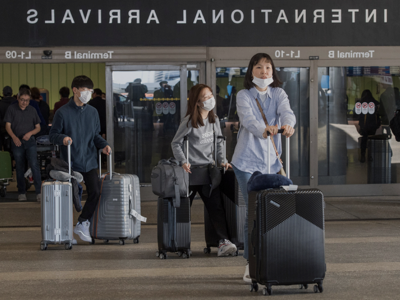mask_weared_incorrect: (253, 62, 274, 91)
with_mask: (199, 91, 216, 115), (77, 86, 93, 105)
without_mask: (19, 95, 30, 108)
